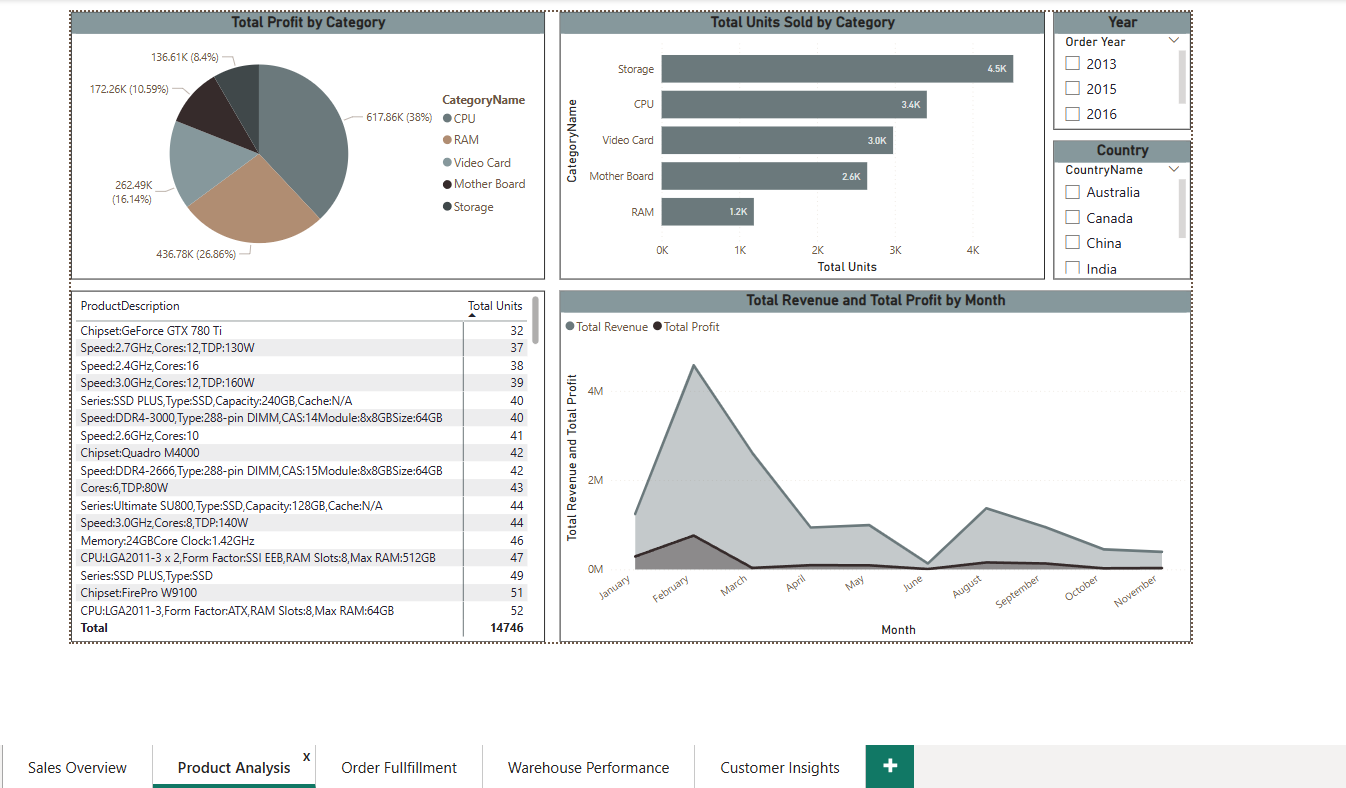

The page's visual inventory and layout, read from the dashboard file:
{"tool":"powerbi","page":{"name":"Product Analysis","canvas":[1280,720],"ordinal":1},"visuals":[{"type":"pieChart","title":"Total Profit by Category","fields":{"Category":["ML-Dataset.CategoryName"],"Y":["ML-Dataset.Total Profit"]},"box":[0,0,541.4,305.7],"z":0},{"type":"pivotTable","title":"Product ","fields":{"Rows":["ML-Dataset.ProductDescription"],"Values":["ML-Dataset.Total Units"]},"box":[0,318.6,541.4,401.4],"z":1000},{"type":"clusteredBarChart","title":"Total Units Sold by Category","fields":{"Category":["ML-Dataset.CategoryName"],"Y":["ML-Dataset.Total Units"]},"box":[558.6,0,554.3,305.7],"z":2000},{"type":"lineChart","fields":{"Category":["ML-Dataset.OrderDate.Variation.Date Hierarchy.Month"],"Y":["ML-Dataset.Total Revenue","ML-Dataset.Total Profit"]},"box":[558.6,318.6,721.4,401.4],"z":3000},{"type":"slicer","title":"Year","fields":{"Values":["ML-Dataset.Order Year"]},"box":[1122.9,0,157.1,134.3],"z":4000},{"type":"slicer","title":"Country","fields":{"Values":["ML-Dataset.CountryName"]},"box":[1122.9,147.1,157.1,158.6],"z":5000}]}

Visuals, with their boxes on the page's 1280x720 design canvas (x1, y1, x2, y2). These are canvas units, not pixel positions in the 1346x788 screenshot, which may show the page scaled, cropped or inside an application window:
"Total Profit by Category" pieChart: x1=0, y1=0, x2=541, y2=306
"Product " pivotTable: x1=0, y1=319, x2=541, y2=720
"Total Units Sold by Category" clusteredBarChart: x1=559, y1=0, x2=1113, y2=306
lineChart - ML-Dataset.OrderDate.Variation.Date Hierarchy.Month x ML-Dataset.Total Revenue: x1=559, y1=319, x2=1280, y2=720
"Year" slicer: x1=1123, y1=0, x2=1280, y2=134
"Country" slicer: x1=1123, y1=147, x2=1280, y2=306
